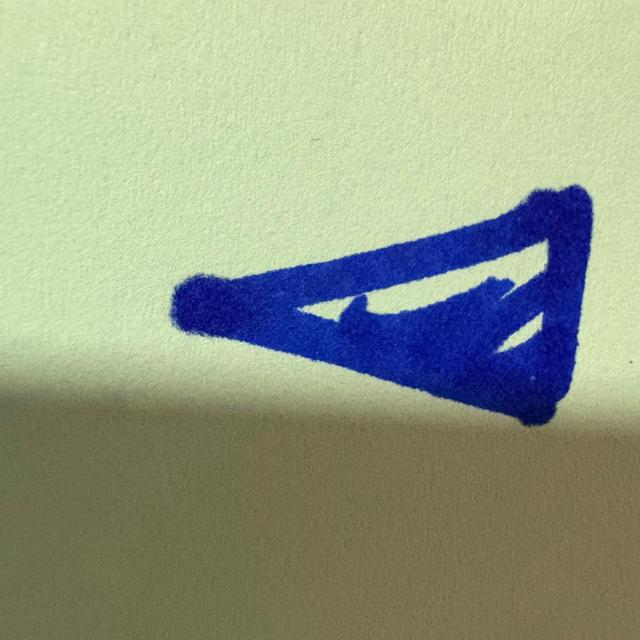Triangle: (166, 179, 595, 432)
